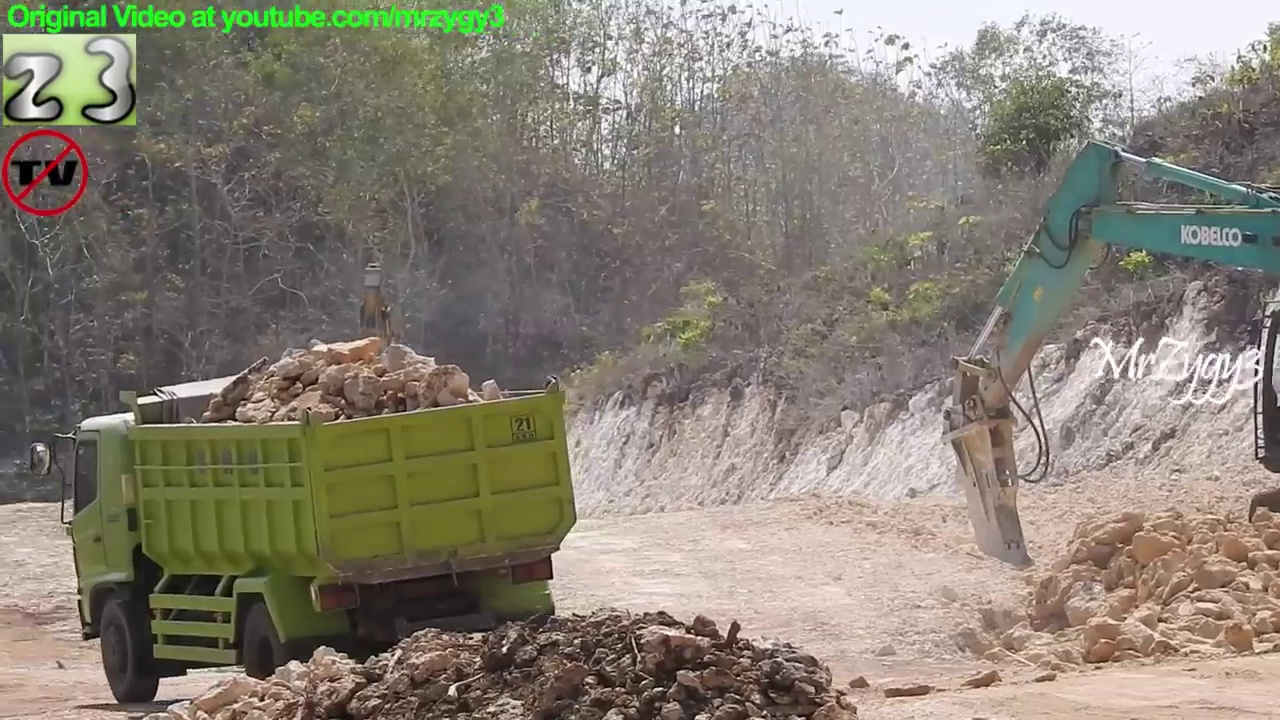excavator: (937, 136, 1280, 580), (275, 254, 462, 528)
truck: (26, 334, 596, 709)
